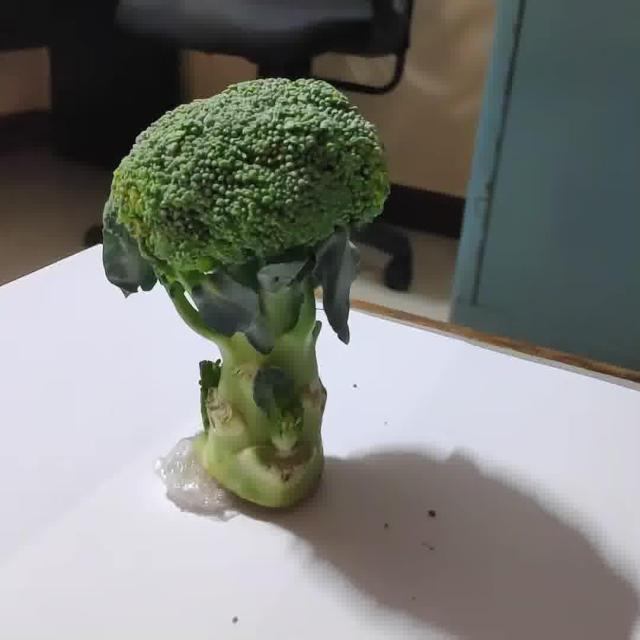Broccoli: (99, 76, 386, 510)
